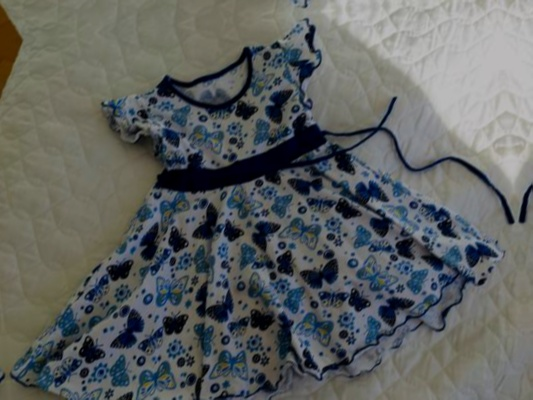Dress: (0, 26, 520, 400), (512, 0, 533, 391), (0, 0, 479, 13), (0, 75, 8, 400)
